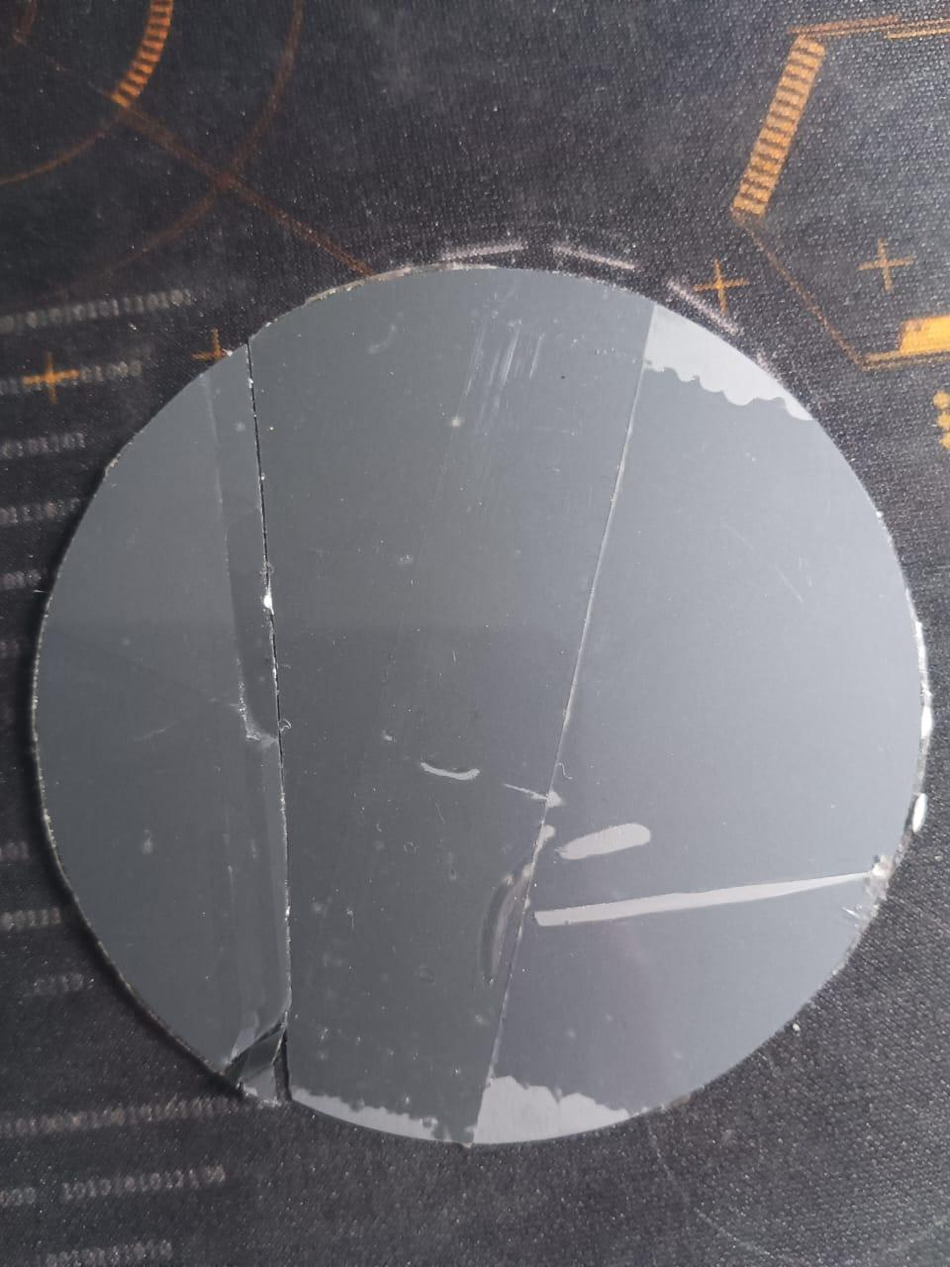crack: (484, 370, 654, 1081), (234, 334, 306, 1107)
scratch: (530, 868, 877, 931), (641, 302, 811, 423), (472, 1071, 631, 1151), (288, 1088, 444, 1145), (553, 821, 652, 866), (413, 752, 483, 794)
